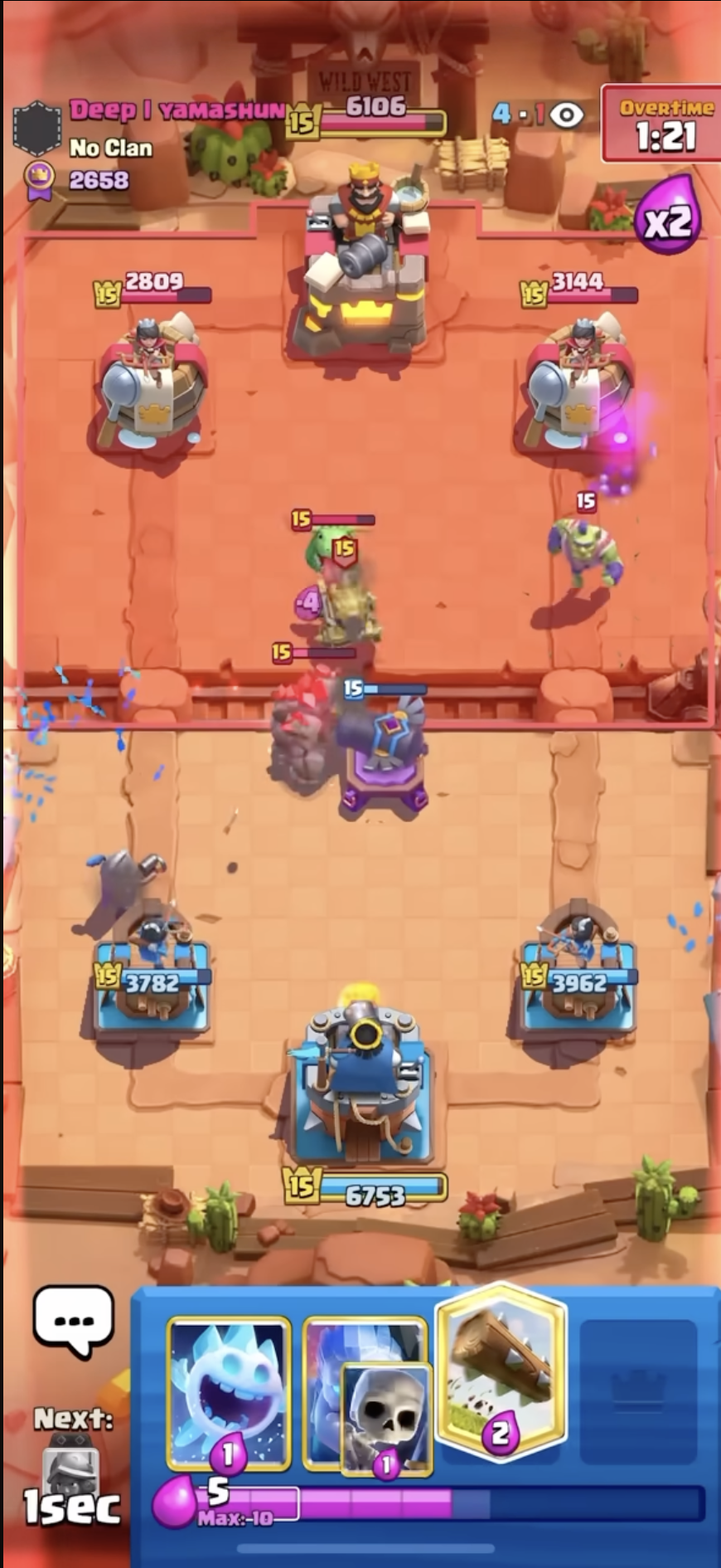evo-cannon: (340, 669, 447, 830)
evo-musketeer: (86, 830, 175, 931)
